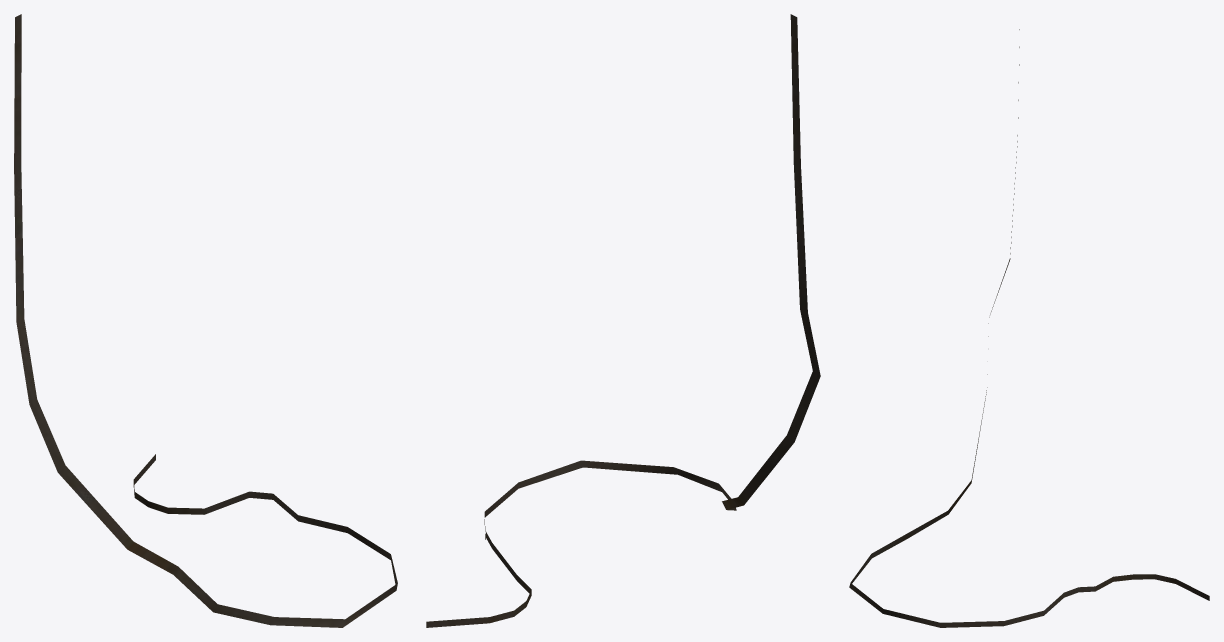
Rendered from Rope_Broken.FBX.
3 renders of one model, left to right at view 1: azimuth 30°, elevation 25°; view 2: azimuth 150°, elevation 25°; view 3: azimuth 270°, elevation 25°, orthographic. The views are drawn at different scales.
Visible parts, largest first — view 1: Rope_Broken; view 2: Rope_Broken; view 3: Rope_Broken.
Part boxes in pixels (x1,y1,x2,y2): Rope_Broken: (14, 14, 397, 627); Rope_Broken: (426, 14, 820, 627); Rope_Broken: (849, 29, 1209, 627).
Size of the model in its own units: 102 by 173 by 116.
